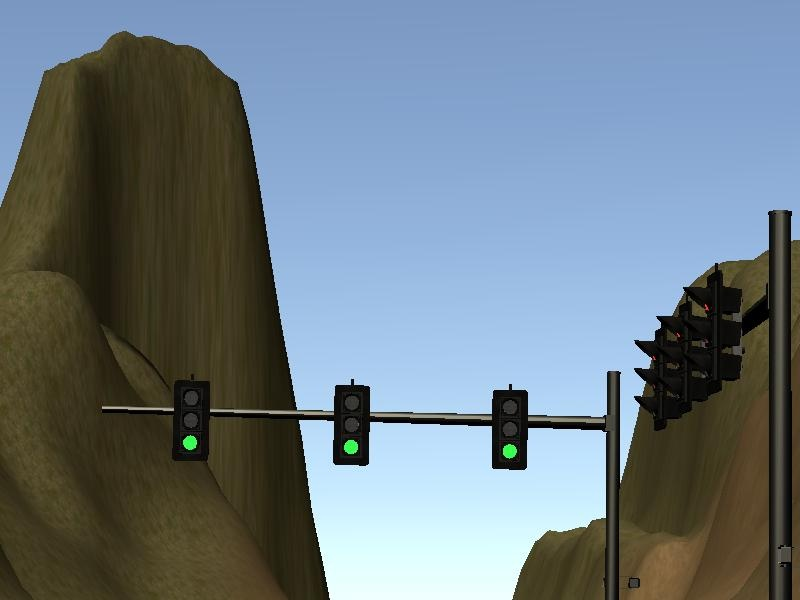green: (167, 378, 213, 464), (332, 383, 371, 468), (490, 387, 529, 470)
